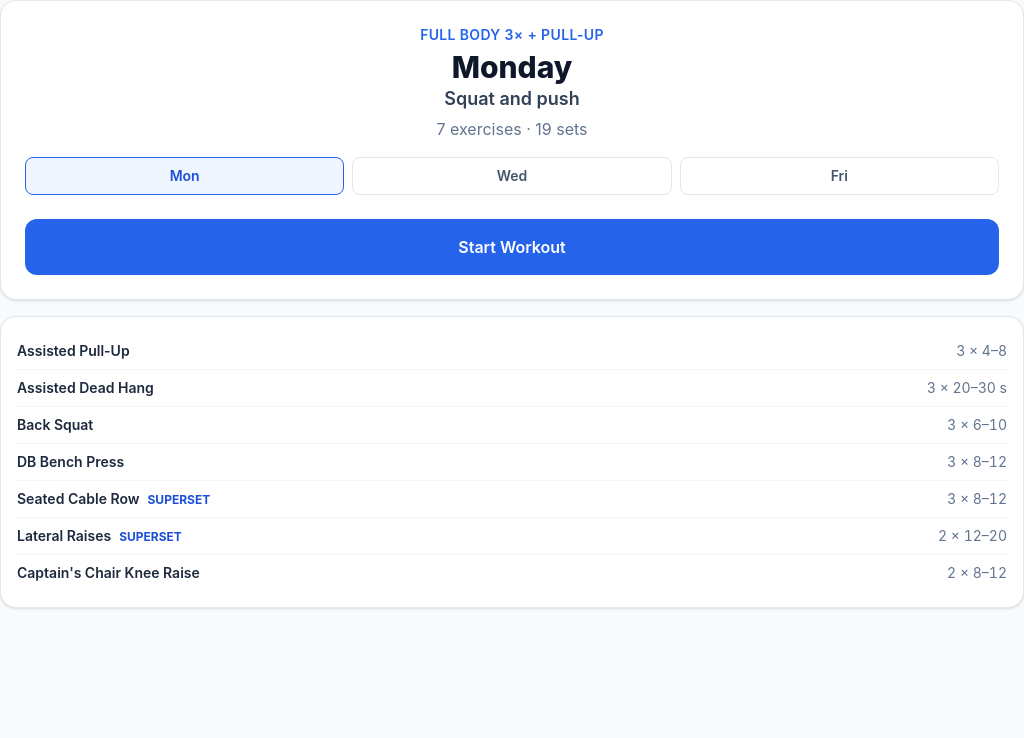
Test case: Strength runs Preset Programme 1 (S-004, spec §10.1) › asks for assistance on the assisted exercises, in seconds for the dead hang
Click the button "Start Workout". click: coordinates (512, 247)
box: x1=25 y1=219 x2=999 y2=275
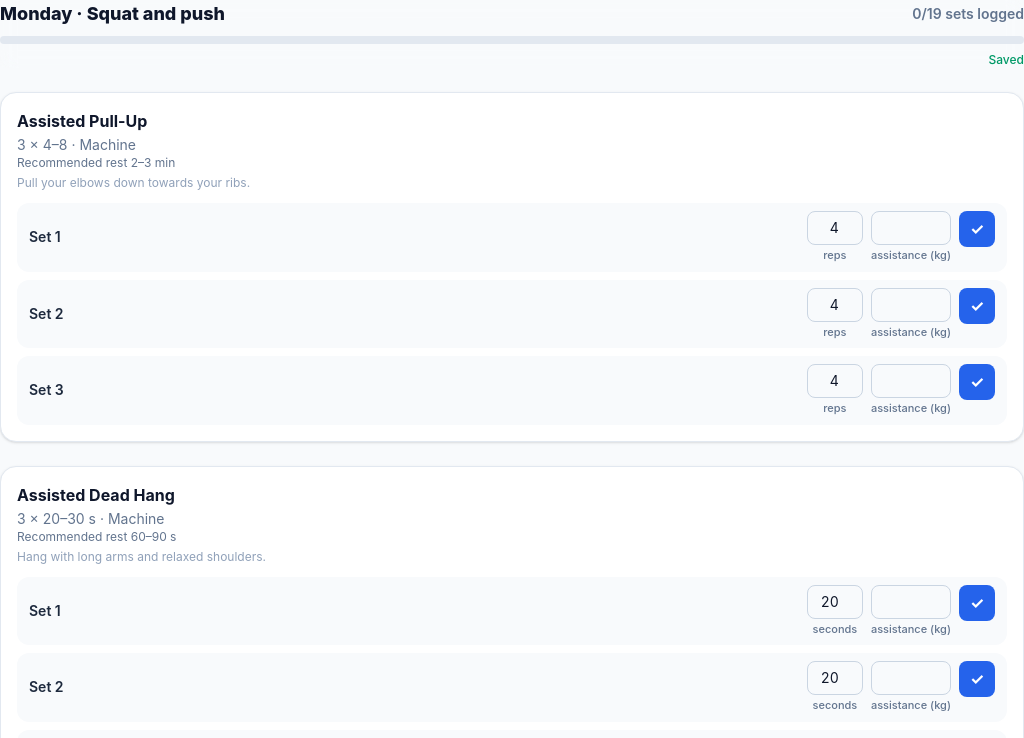
Expected: the text "3 × 20–30 s · Machine" is shown, x1=17 y1=510 x2=164 y2=526
Expected: the text "seconds" is shown 3 times
Expected: the text "assistance (kg)" is shown 3 times
